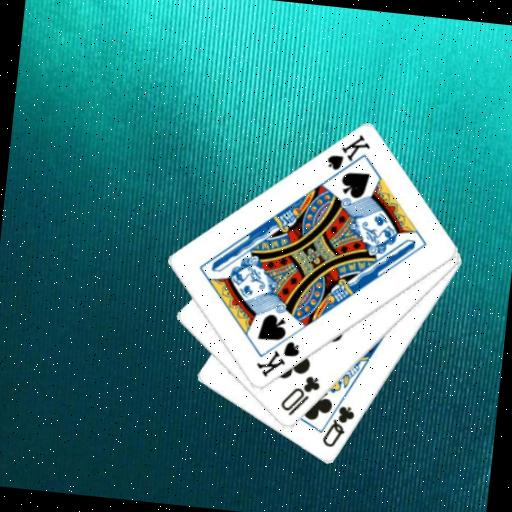10C: (276, 371, 323, 421)
KS: (322, 128, 373, 185), (252, 335, 302, 383)
QC: (318, 400, 358, 452)
